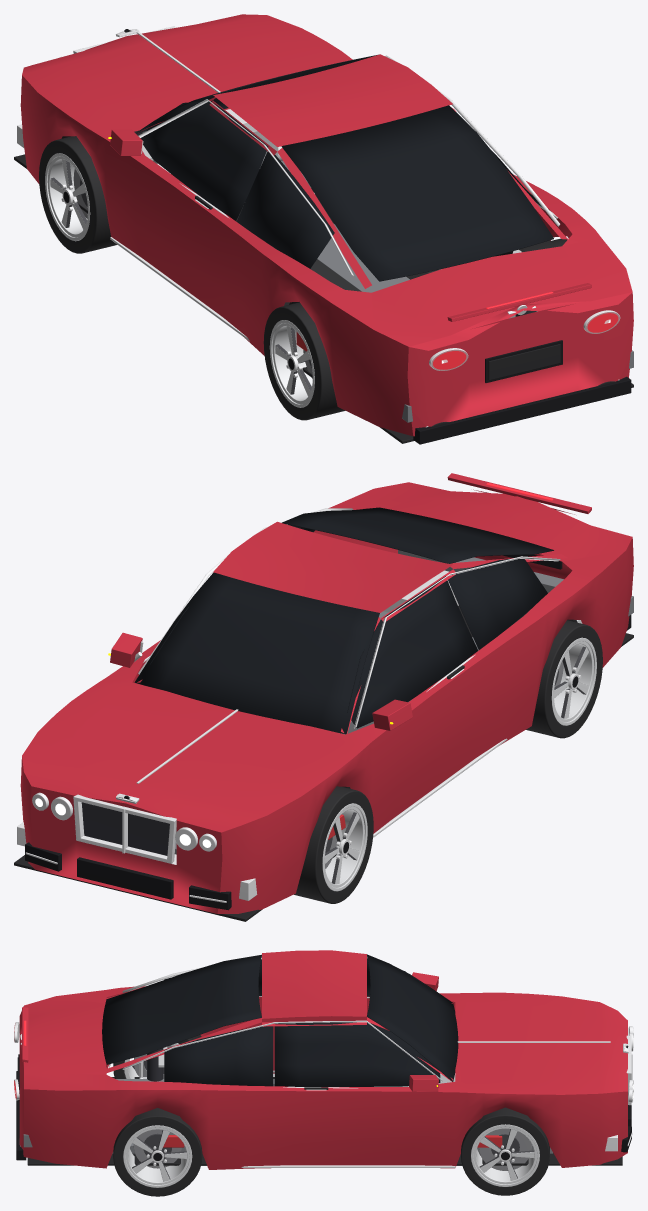
Rendered from vehicle_grand_tourer_coupe.glb.
3 views of the same model, one above another, from view 1: azimuth 30°, elevation 25°; view 2: azimuth 150°, elevation 25°; view 3: azimuth 270°, elevation 25° (orthographic). The views are drawn at different scales.
Parts seen in each view (by area): view 1: BODY_Hull, Rear_Backlight_Glass, BODY_Greenhouse_Canopy, Door_Glass_R, Quarter_Glass_R, BODY_Rear_Lower_Diffuser_Valance, WHEEL_Tire_RR, WHEEL_Tire_FR, CHASSIS_Central_Transmission_Tunnel, BODY_Rear_License_Plate, WHEEL_Rim_Barrel_RR, WHEEL_Rim_Barrel_FR (+12 smaller); view 2: BODY_Hull, Windshield_Glass, BODY_Greenhouse_Canopy, Door_Glass_R, Rear_Backlight_Glass, Quarter_Glass_R, FASCIA_Bentley_Matrix_Grille_Assembly, WHEEL_Tire_FR, WHEEL_Tire_RR, FASCIA_Lower_Center_Intake_Dam, WHEEL_Rim_Barrel_RR, WHEEL_Rim_Barrel_FR (+13 smaller); view 3: BODY_Hull, Rear_Backlight_Glass, Door_Glass_L, BODY_Greenhouse_Canopy, Windshield_Glass, Quarter_Glass_L, WHEEL_Tire_RL, WHEEL_Tire_FL, WHEEL_Rim_Barrel_RL, WHEEL_Rim_Barrel_FL, BODY_Aerodynamic_Underbody_Pan, BRAKE_CarbonCeramic_Rotor_FL (+9 smaller).
Part boxes in pixels (left/top/right/bottom): BODY_Hull: left=20, top=14, right=633, bottom=436; Rear_Backlight_Glass: left=281, top=105, right=553, bottom=281; BODY_Greenhouse_Canopy: left=138, top=54, right=567, bottom=288; Door_Glass_R: left=141, top=101, right=268, bottom=220; Quarter_Glass_R: left=236, top=151, right=334, bottom=268; BODY_Rear_Lower_Diffuser_Valance: left=413, top=376, right=631, bottom=444; WHEEL_Tire_RR: left=263, top=302, right=345, bottom=420; WHEEL_Tire_FR: left=39, top=136, right=117, bottom=253; CHASSIS_Central_Transmission_Tunnel: left=236, top=205, right=409, bottom=292; BODY_Rear_License_Plate: left=488, top=344, right=560, bottom=380; WHEEL_Rim_Barrel_RR: left=272, top=323, right=312, bottom=404; WHEEL_Rim_Barrel_FR: left=47, top=156, right=88, bottom=237; BODY_Hull: left=20, top=482, right=633, bottom=913; Windshield_Glass: left=134, top=572, right=379, bottom=734; BODY_Greenhouse_Canopy: left=134, top=508, right=567, bottom=734; Door_Glass_R: left=347, top=576, right=478, bottom=728; Rear_Backlight_Glass: left=282, top=507, right=553, bottom=563; Quarter_Glass_R: left=448, top=558, right=547, bottom=649; FASCIA_Bentley_Matrix_Grille_Assembly: left=73, top=794, right=176, bottom=863; WHEEL_Tire_FR: left=294, top=786, right=373, bottom=903; WHEEL_Tire_RR: left=526, top=620, right=602, bottom=738; FASCIA_Lower_Center_Intake_Dam: left=77, top=857, right=173, bottom=899; WHEEL_Rim_Barrel_RR: left=553, top=641, right=594, bottom=722; WHEEL_Rim_Barrel_FR: left=324, top=806, right=364, bottom=887; BODY_Hull: left=19, top=986, right=627, bottom=1169; Rear_Backlight_Glass: left=102, top=954, right=261, bottom=1064; Door_Glass_L: left=274, top=1022, right=440, bottom=1086; BODY_Greenhouse_Canopy: left=106, top=950, right=452, bottom=1081; Windshield_Glass: left=367, top=954, right=458, bottom=1081; Quarter_Glass_L: left=164, top=1026, right=273, bottom=1086; WHEEL_Tire_RL: left=113, top=1108, right=202, bottom=1196; WHEEL_Tire_FL: left=461, top=1107, right=549, bottom=1195; WHEEL_Rim_Barrel_RL: left=126, top=1127, right=189, bottom=1184; WHEEL_Rim_Barrel_FL: left=473, top=1127, right=537, bottom=1184; BODY_Aerodynamic_Underbody_Pan: left=27, top=1077, right=622, bottom=1165; BRAKE_CarbonCeramic_Rotor_FL: left=479, top=1128, right=531, bottom=1170.
Size of the model in its own units: 2.04 by 1.4 by 4.9.
